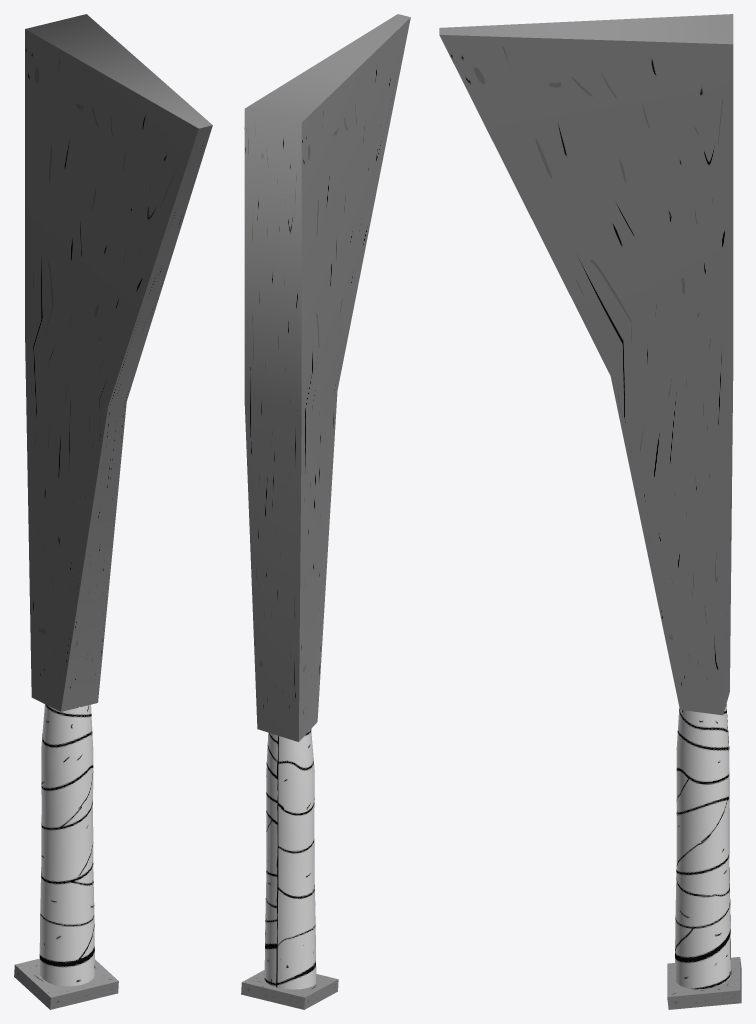
Rendered from BusterBat.fbx.
3 renders of one model, left to right at view 1: azimuth 30°, elevation 25°; view 2: azimuth 150°, elevation 25°; view 3: azimuth 270°, elevation 25°, orthographic. The views are drawn at different scales.
Visible parts, largest first — view 1: Box002, Cylinder002, Box001; view 2: Box002, Cylinder002, Box001; view 3: Box002, Cylinder002, Box001.
Boxes of the visible parts, x1=… form: Box002: x1=25, y1=14, x2=212, y2=711; Cylinder002: x1=39, y1=704, x2=94, y2=986; Box001: x1=14, y1=958, x2=118, y2=1009; Box002: x1=244, y1=14, x2=410, y2=741; Cylinder002: x1=264, y1=729, x2=316, y2=989; Box001: x1=241, y1=970, x2=338, y2=1009; Box002: x1=439, y1=14, x2=733, y2=715; Cylinder002: x1=674, y1=704, x2=731, y2=989; Box001: x1=667, y1=957, x2=741, y2=1009.
Bounding box in the file's own units: 3.1 × 41.32 × 11.73.
